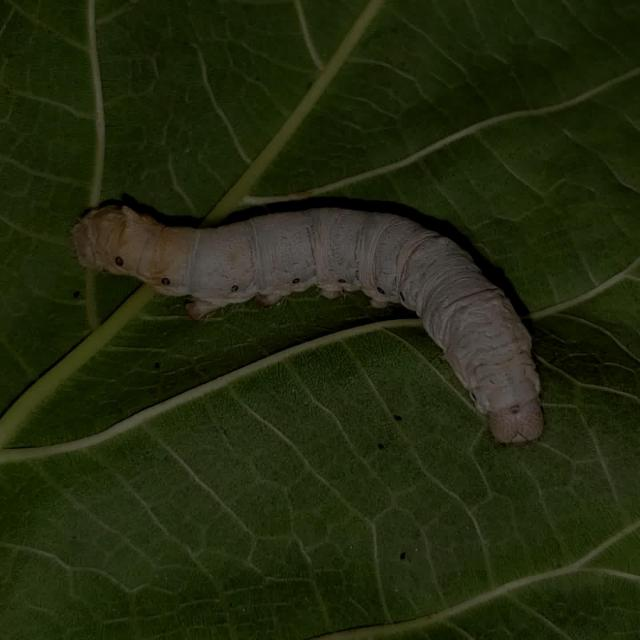Grasserie: (57, 168, 551, 452)
